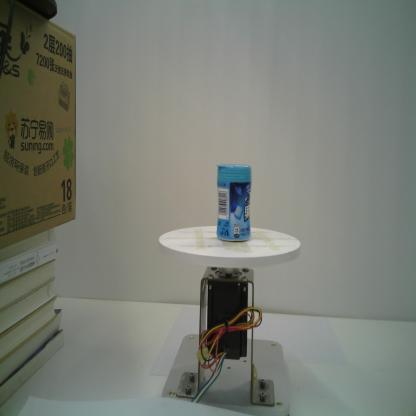Gum: (215, 163, 252, 242)
